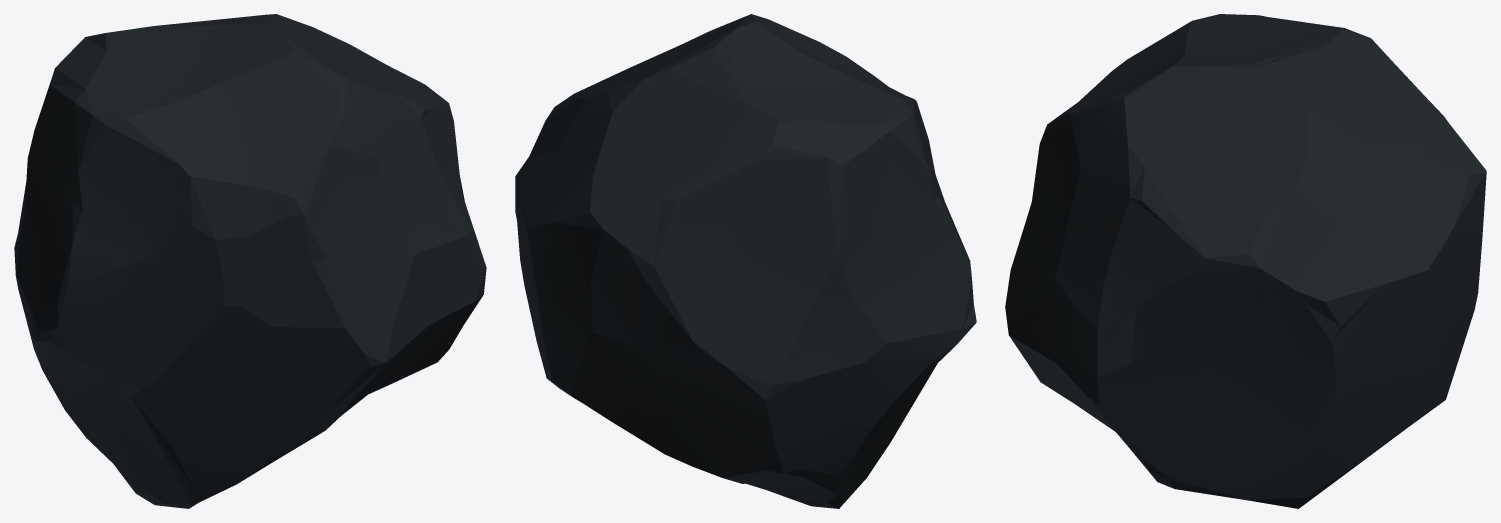
File: Asteroid_m_09.FBX
3 views of the same model, side by side, from view 1: azimuth 30°, elevation 25°; view 2: azimuth 150°, elevation 25°; view 3: azimuth 270°, elevation 25° (orthographic). The views are drawn at different scales.
Parts seen in each view (by area): view 1: Asteroid_m_09; view 2: Asteroid_m_09; view 3: Asteroid_m_09.
Part boxes in pixels (left/top/right/bottom): Asteroid_m_09: left=14, top=14, right=486, bottom=508; Asteroid_m_09: left=515, top=14, right=976, bottom=508; Asteroid_m_09: left=1005, top=14, right=1486, bottom=508.
Size of the model in its own units: 766 by 807 by 761.
